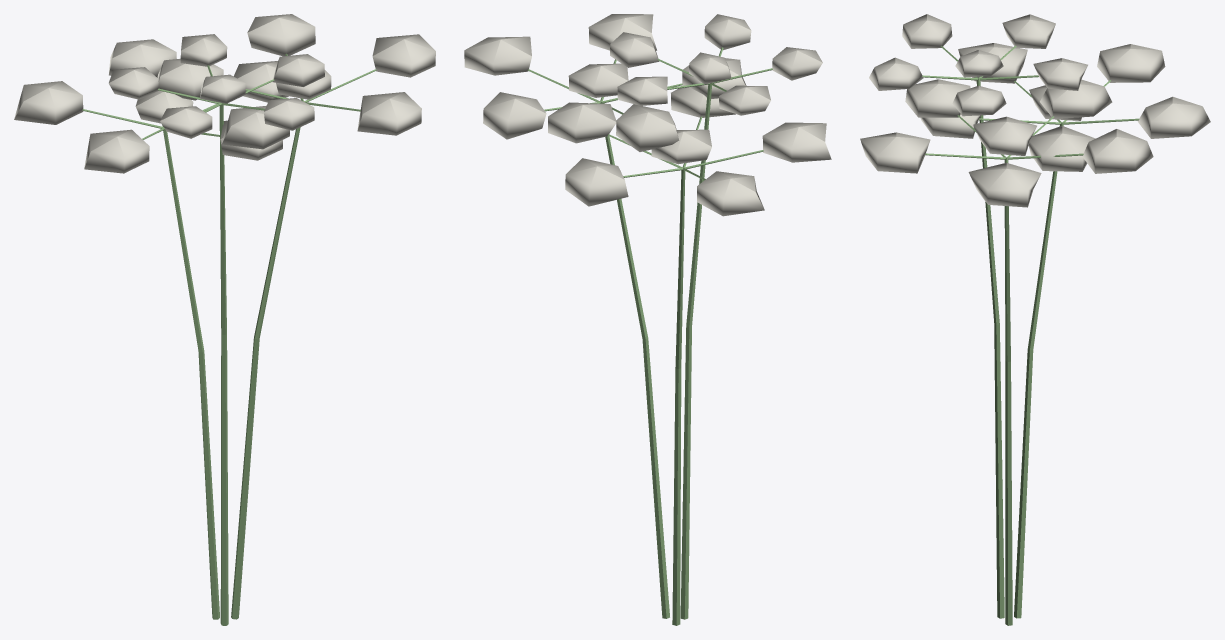
Rendered from dense-temperate-forest-flora-cow-parsley-clump-fc85bef4__28380.glb.
The picture shows the model from 3 angles, left to right: view 1: azimuth 30°, elevation 25°; view 2: azimuth 150°, elevation 25°; view 3: azimuth 270°, elevation 25°; orthographic projection.
Visible parts, largest first — view 1: cow-parsley-clump; view 2: cow-parsley-clump; view 3: cow-parsley-clump.
Part boxes in pixels (x1=…): cow-parsley-clump: x1=14, y1=14, x2=435, y2=625; cow-parsley-clump: x1=464, y1=14, x2=831, y2=625; cow-parsley-clump: x1=860, y1=14, x2=1210, y2=625.
Bounding box in the file's own units: 0.7867 × 1.2 × 0.6786.
